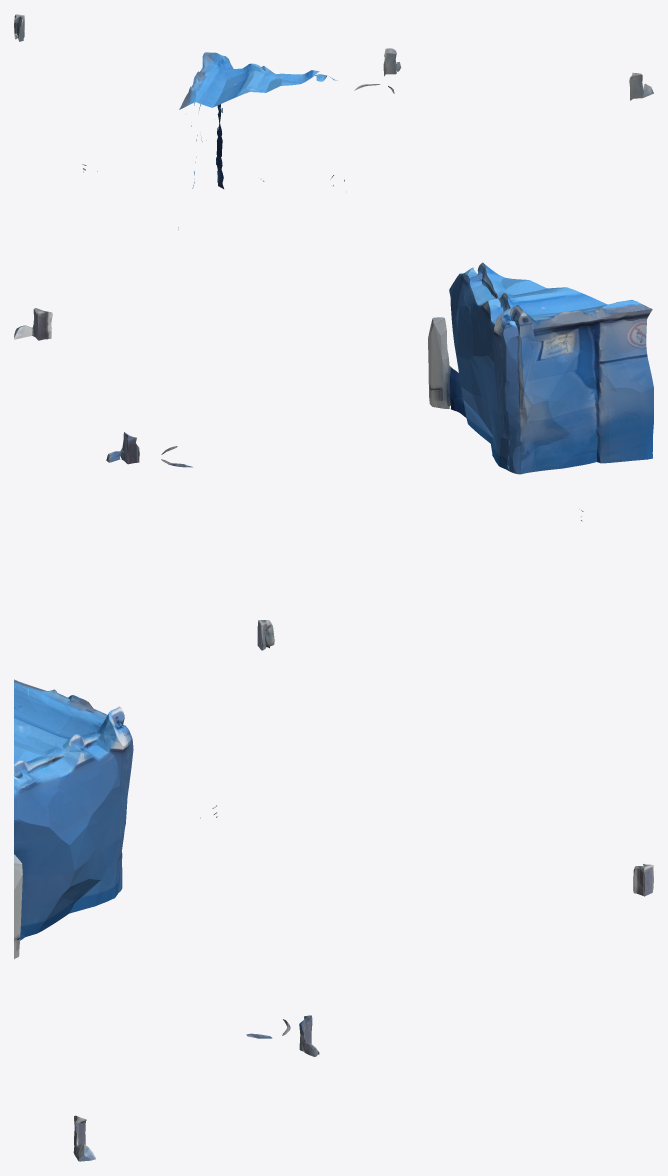
3 renders of one model, top to bottom at view 1: azimuth 30°, elevation 25°; view 2: azimuth 150°, elevation 25°; view 3: azimuth 270°, elevation 25°, orthographic. The views are drawn at different scales.
Size of the model in its own units: 7.57 by 1.89 by 6.15.
1 material, 1 textured.
